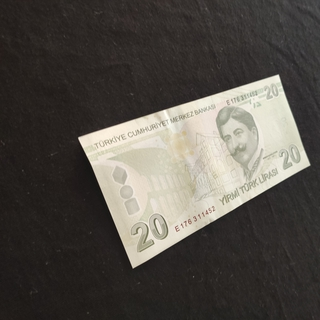20TLBack: (76, 73, 311, 269)
